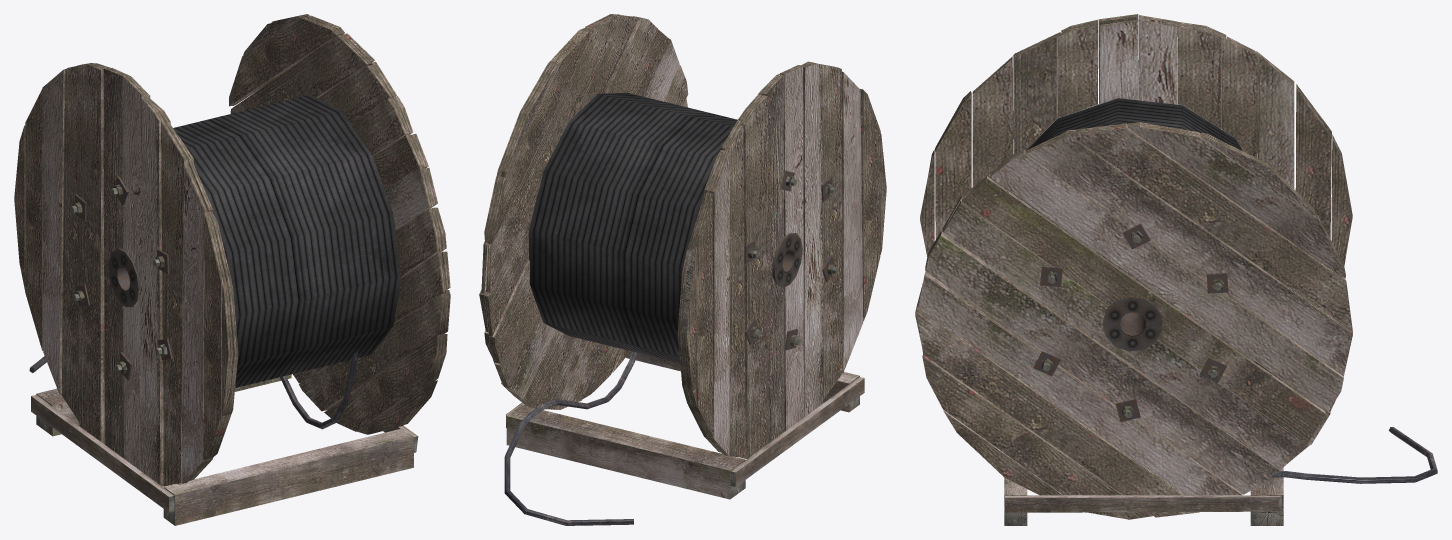
Rendered from SM_cable_spool_a.fbx.
The picture shows the model from 3 angles, left to right: view 1: azimuth 30°, elevation 25°; view 2: azimuth 150°, elevation 25°; view 3: azimuth 270°, elevation 25°; orthographic projection. The views are drawn at different scales.
Visible parts, largest first — view 1: SM_cable_spool_a; view 2: SM_cable_spool_a; view 3: SM_cable_spool_a.
Boxes of the visible parts, x1,y1,x2,y2 form: SM_cable_spool_a: [14, 14, 450, 525]; SM_cable_spool_a: [479, 14, 886, 525]; SM_cable_spool_a: [915, 14, 1437, 525].
Size of the model in its own units: 121 by 219 by 186.
Materials: 1 (1 with a texture image).
